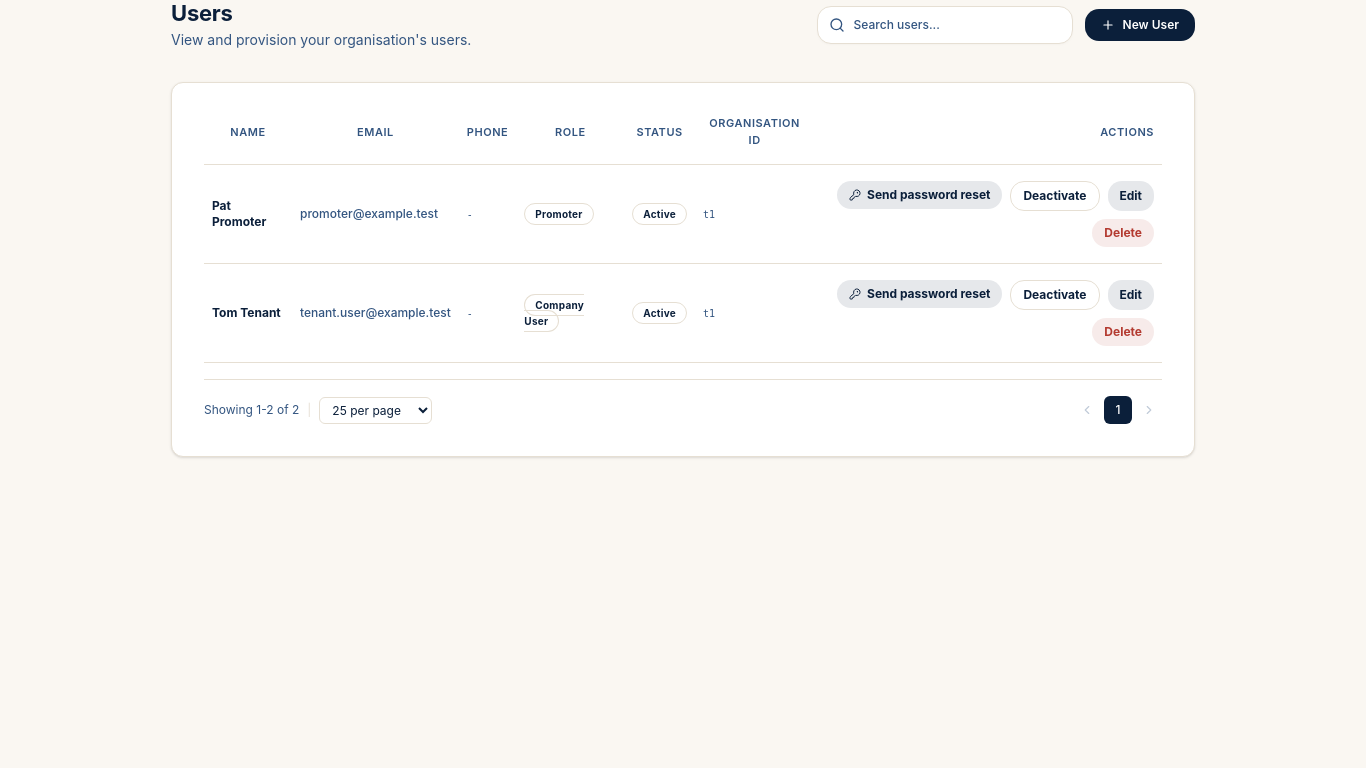
Scenario: UsersManager and the PROMOTER role › leaves other users' roles editable, and never offers PROMOTER as a choice
Expected: the text "Tom Tenant" is shown, [204,264,292,363]
Click the button "Edit" in the row of "Tom Tenant" at [1131, 295], box [1108,280,1154,310]
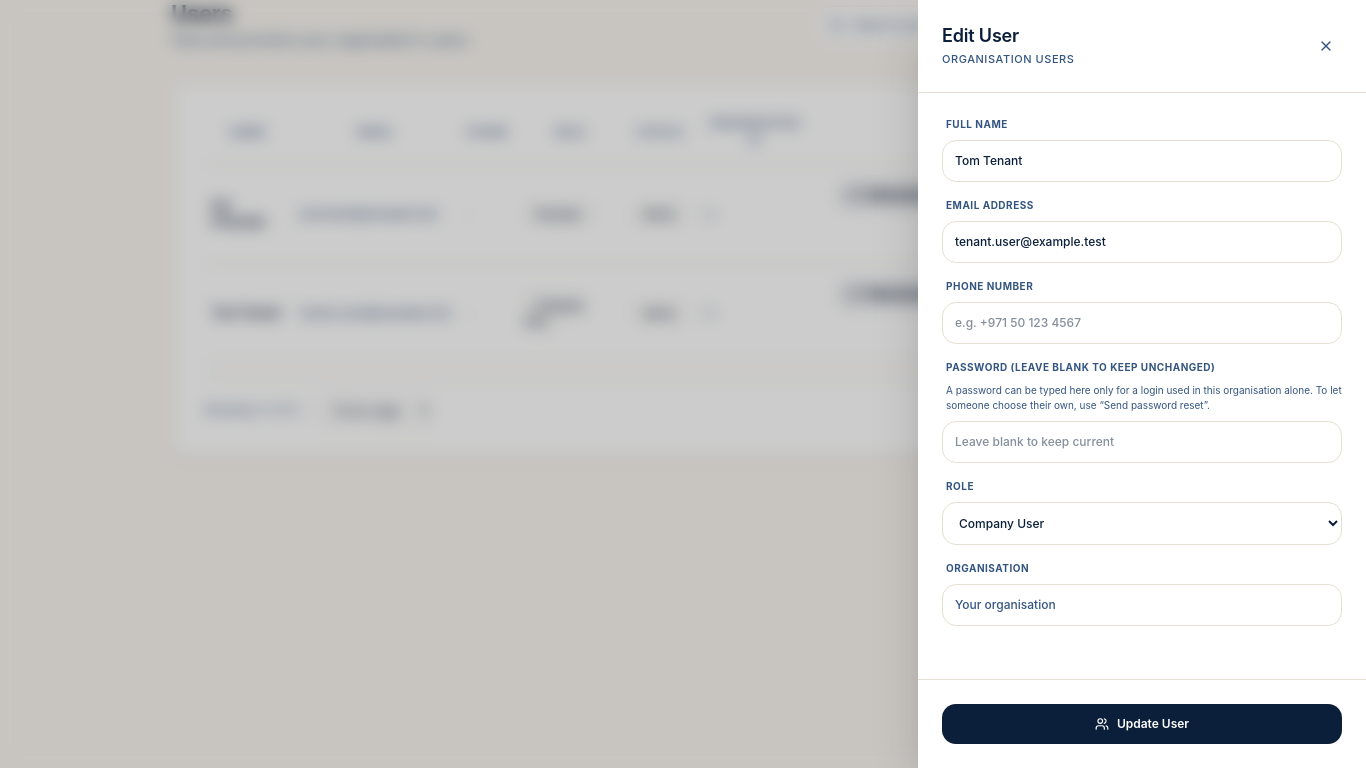
Expected: the field showing "Tom Tenant" below "Full Name" is shown, [942,140,1342,182]
Expected: the dropdown is enabled, [942,502,1342,545]
